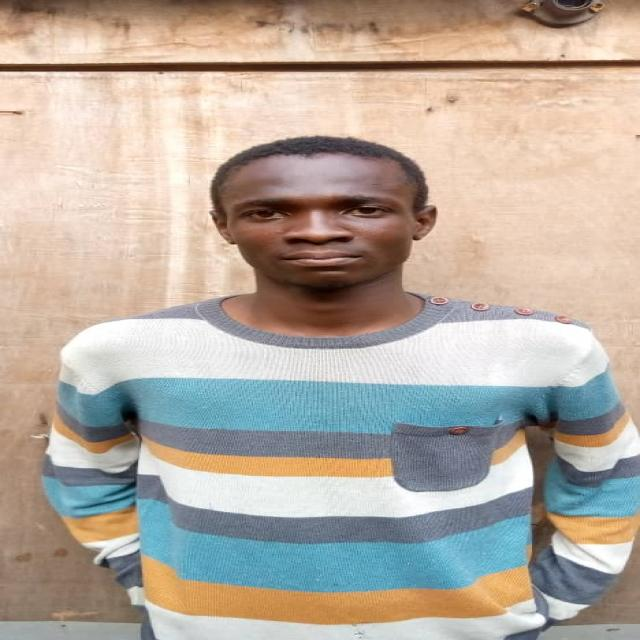sad: (192, 131, 465, 299)
